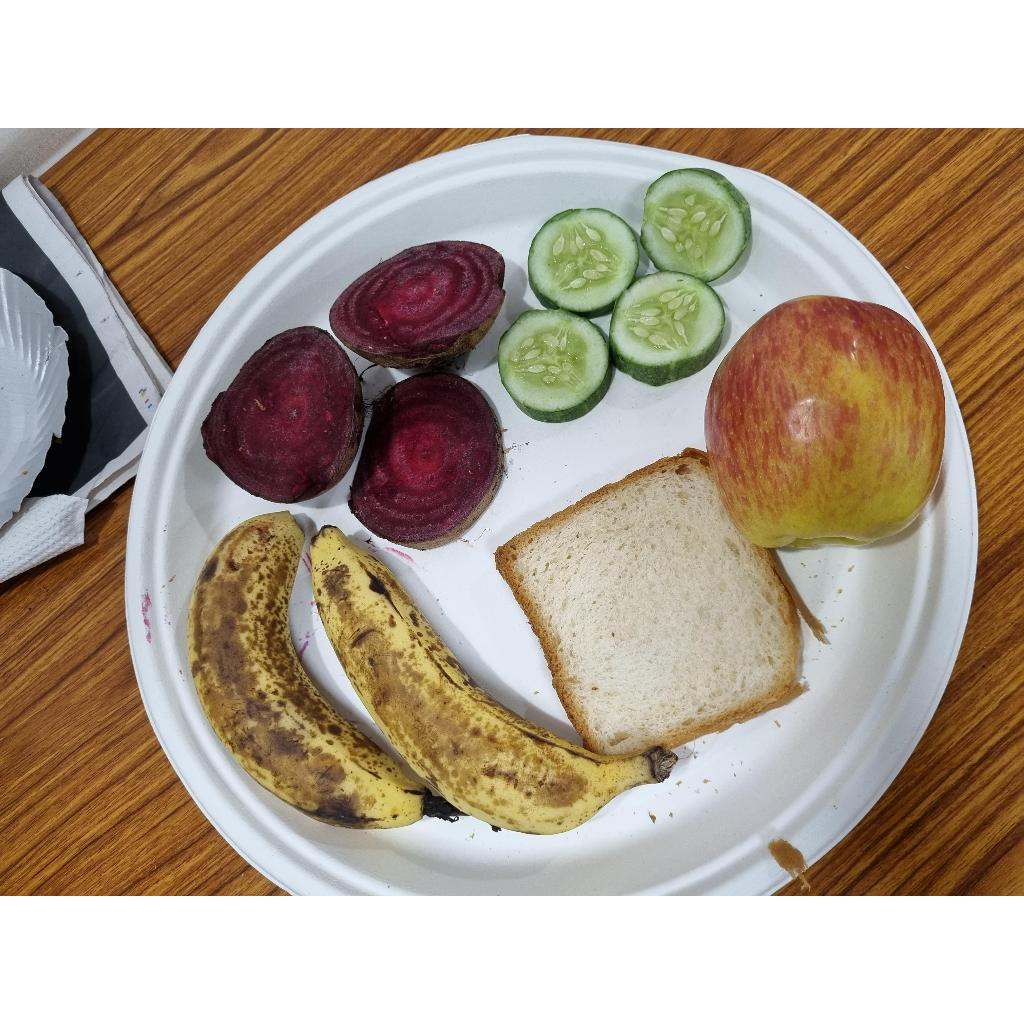apple: (705, 296, 946, 553)
banana: (297, 529, 677, 838), (189, 518, 453, 832)
cucumber: (640, 167, 756, 289), (605, 273, 727, 388), (496, 309, 616, 425), (525, 208, 646, 323)
